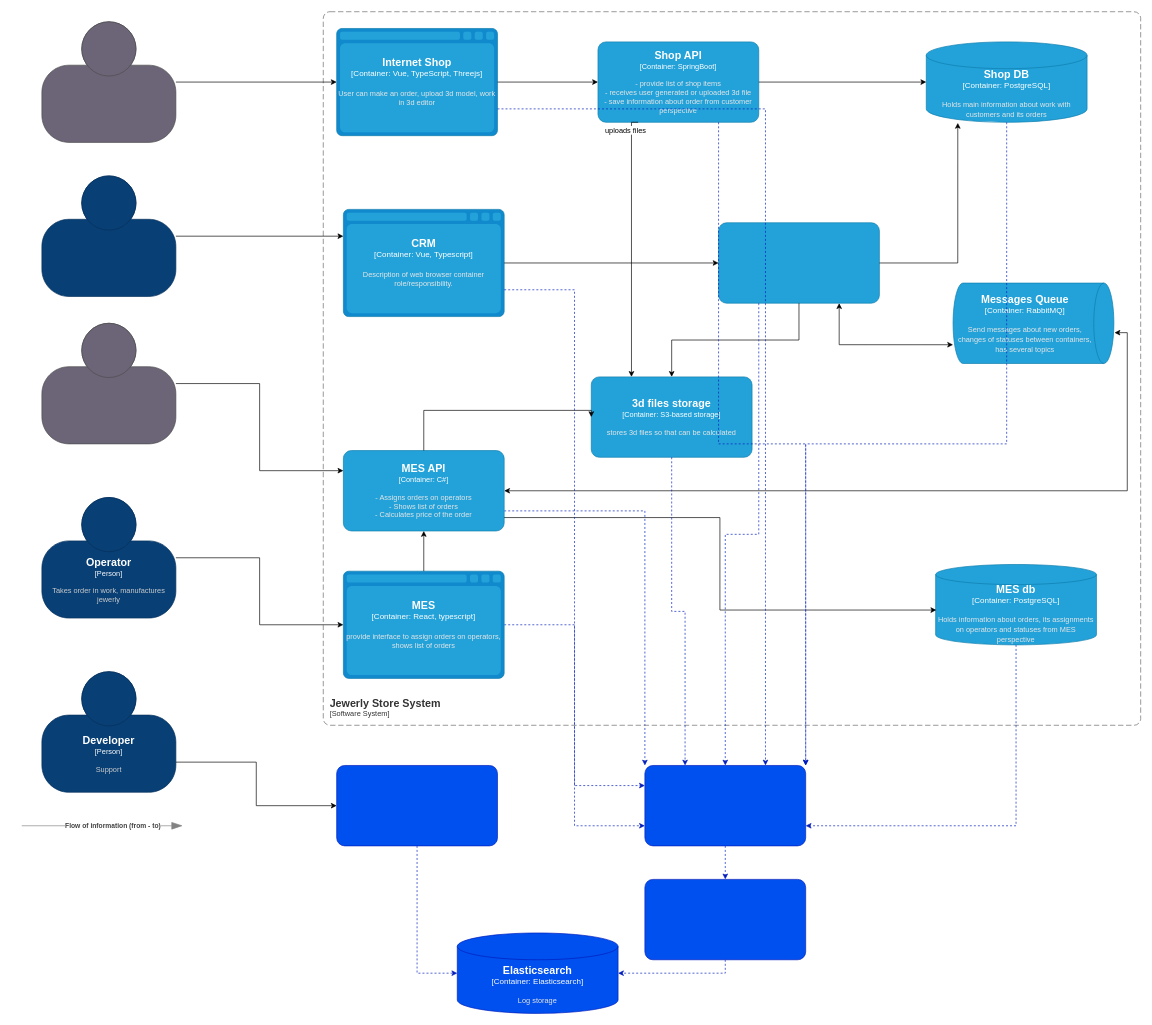
Image size: 1152x1025. Some labels were removed from this diagram. The box of each missing label's shape, as (x1, y1, x2, y2) in pixels:
API user [Person] Description of external person.: (41, 323, 176, 444)
CRM API [Container: SpringBoot] Description of container role/responsibility.: (718, 222, 879, 303)
Customer [Person] Description of external person.: (41, 21, 176, 142)
Filebeat Agents [Container: Filebeat]: (644, 765, 806, 846)
Kibana [Container: Kibana]: (336, 765, 497, 846)
Logstash [Container: Logstash]: (644, 879, 806, 960)
Seller [Person] Operates with order, confirms manufacturing for the user: (41, 175, 176, 296)
